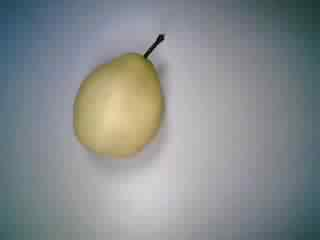pear: (66, 29, 174, 162)
